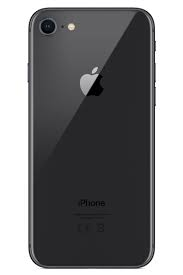iphone: (26, 5, 158, 271)
